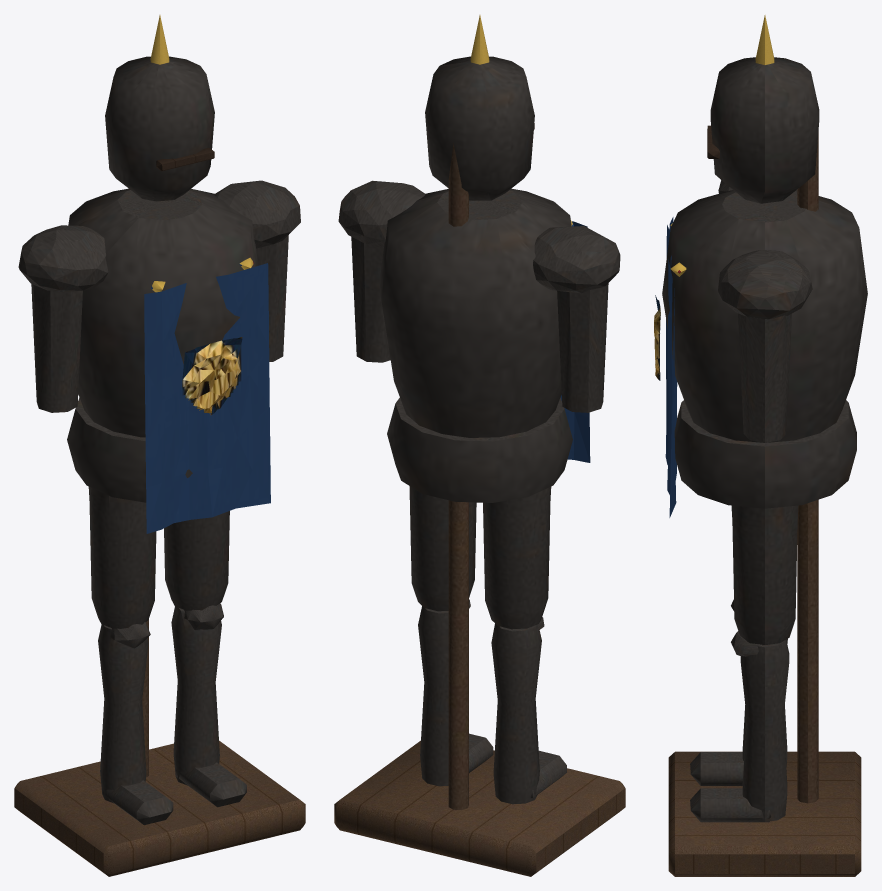
The model's file is armor_stand_lod1.glb.
The picture shows the model from 3 angles, left to right: view 1: azimuth 30°, elevation 25°; view 2: azimuth 150°, elevation 25°; view 3: azimuth 270°, elevation 25°; orthographic projection.
Parts seen in each view (by area): view 1: armor_stand; view 2: armor_stand; view 3: armor_stand.
Part boxes in pixels (x1,y1,x2,y2): armor_stand: (14,15,305,876); armor_stand: (334,15,625,876); armor_stand: (654,15,867,876).
Size of the model in its own units: 0.7419 by 2.1 by 0.4988.
Materials: 1 (1 with a texture image).
